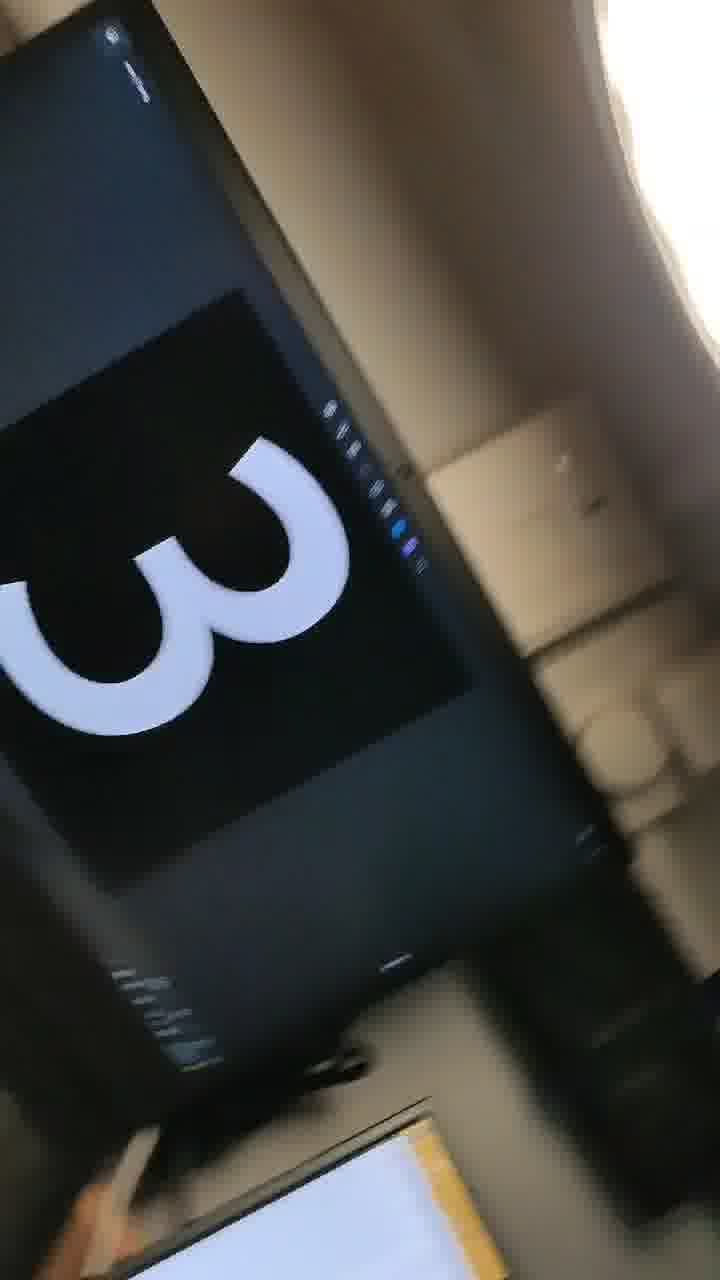three: (13, 242, 368, 744)
